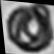correct: (4, 1, 54, 54)
